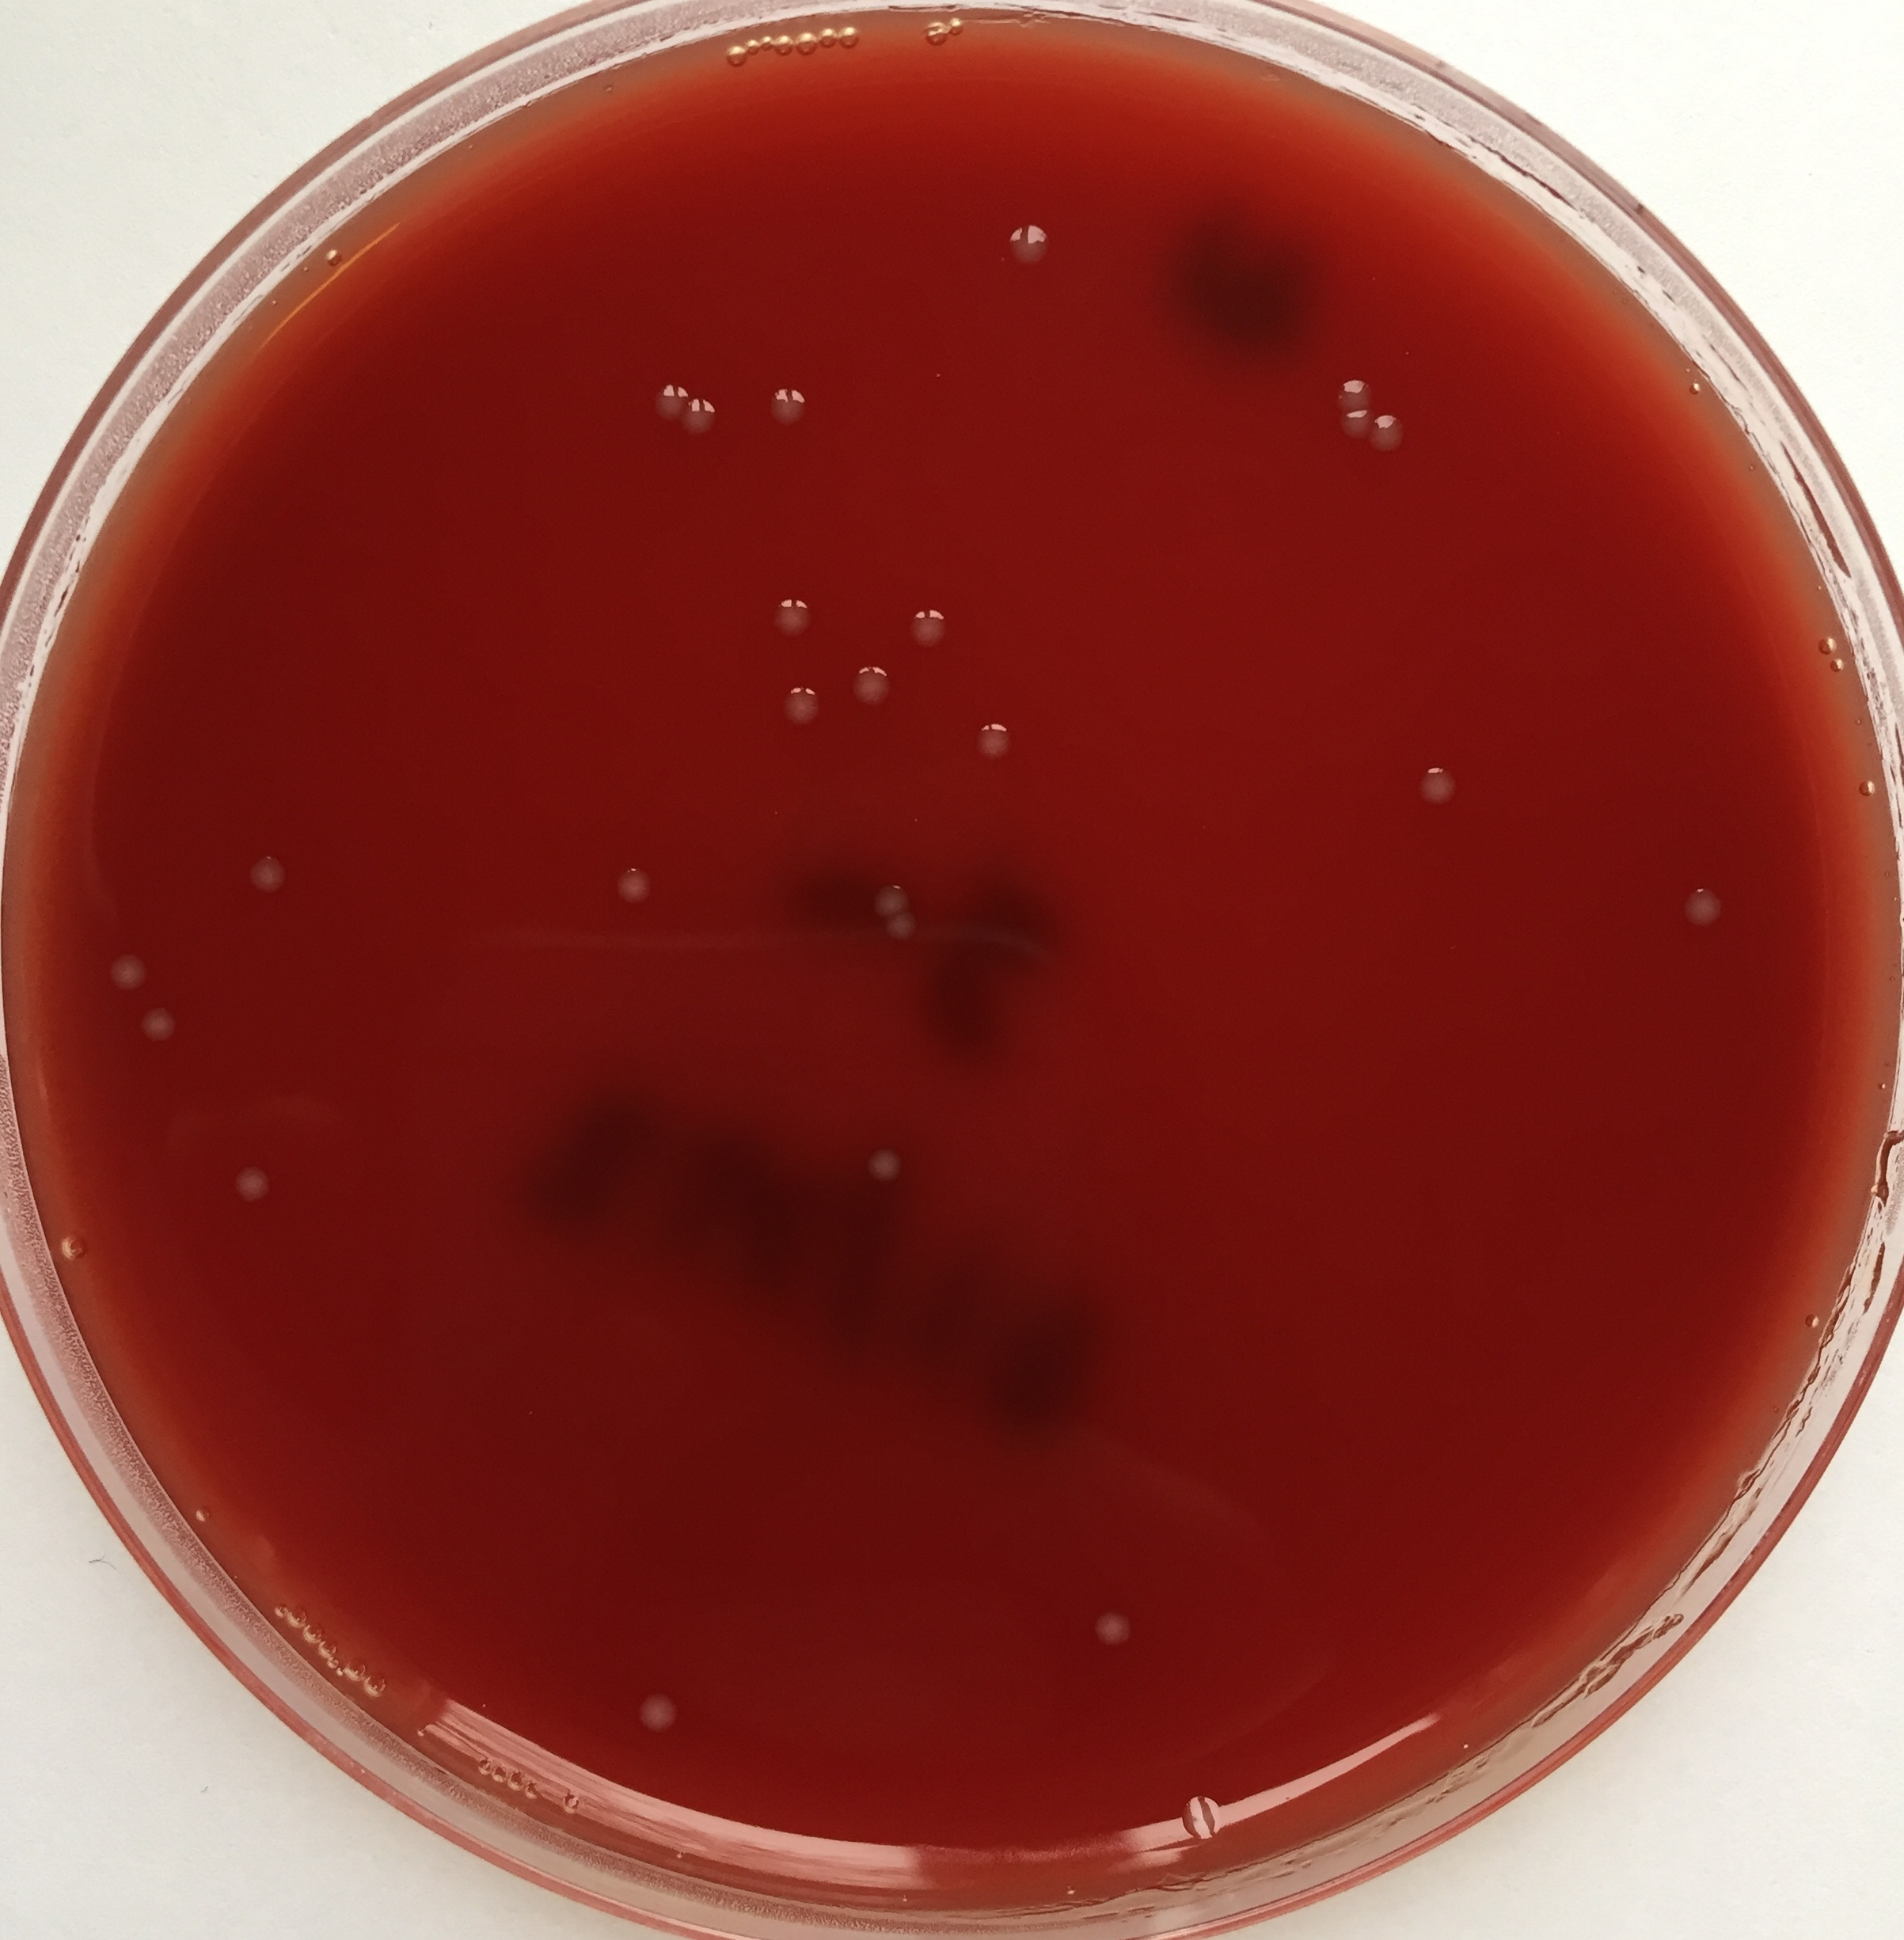sp14: (1655, 870, 1742, 945), (85, 927, 159, 997), (129, 992, 192, 1070), (1405, 763, 1482, 823), (856, 1133, 910, 1208), (966, 711, 1029, 776), (225, 1161, 288, 1224), (842, 655, 900, 720), (631, 1687, 683, 1757), (1001, 214, 1057, 279), (774, 673, 833, 732), (602, 845, 650, 913), (1086, 1605, 1139, 1668), (896, 601, 961, 650), (757, 376, 806, 436), (248, 845, 293, 903), (861, 875, 919, 917), (671, 396, 732, 434), (1376, 411, 1416, 469), (765, 593, 818, 634), (872, 917, 915, 964), (1327, 371, 1379, 404), (647, 373, 683, 420), (1339, 404, 1376, 443)
